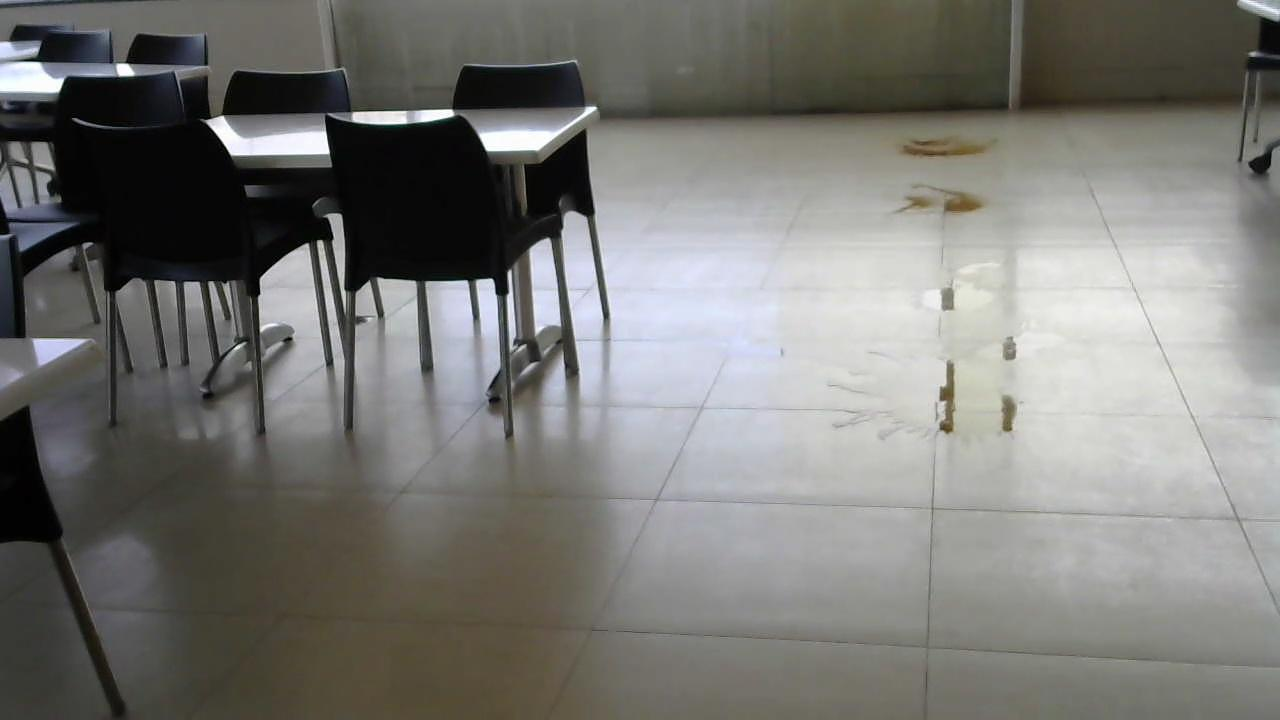dirty_floor: (829, 328, 1056, 445), (913, 251, 1007, 319), (889, 178, 992, 223), (894, 132, 1007, 161)
